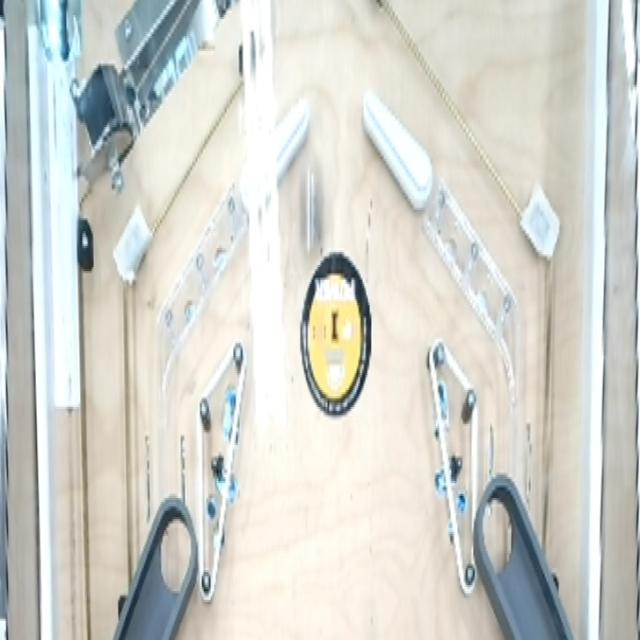ball: (300, 160, 325, 256)
flipper-left: (358, 82, 436, 218)
flipper-right: (236, 88, 316, 224)
